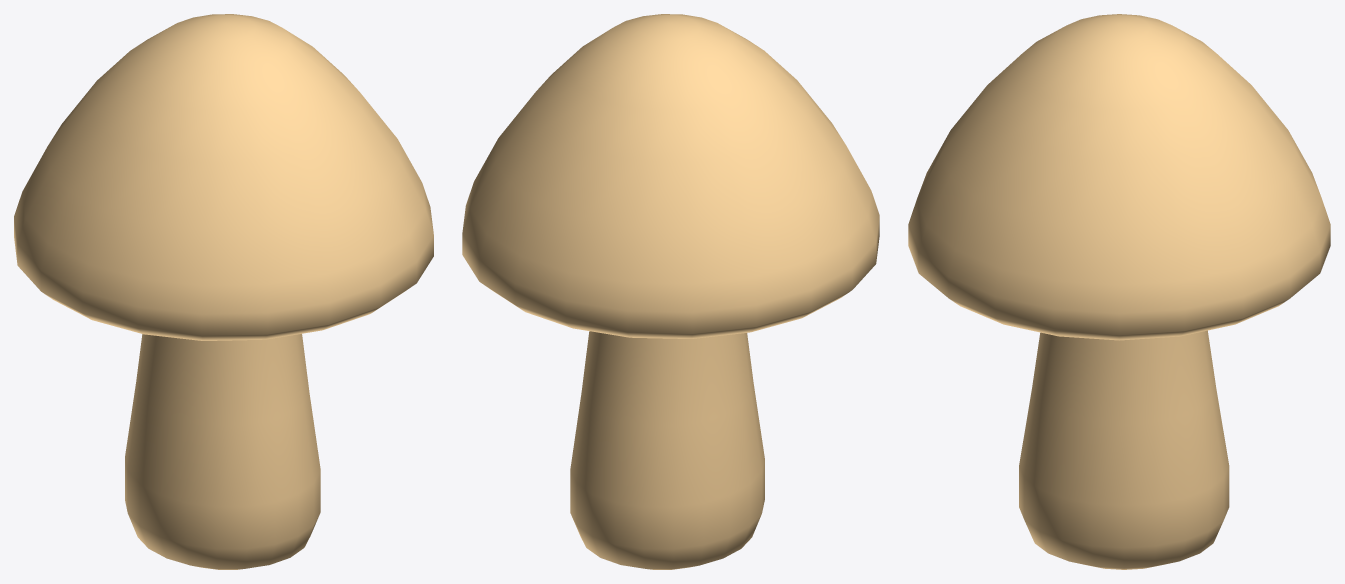
The model's file is glass_pilz_v2.glb.
3 views of the same model, side by side, from view 1: azimuth 30°, elevation 25°; view 2: azimuth 150°, elevation 25°; view 3: azimuth 270°, elevation 25° (orthographic).
Visible parts, largest first — view 1: Mushroom_Beige:BG_EP04_prop_beigemushroom_type4_head1_Mushro, Mushroom_Beige:BG_EP04_prop_beigemushroom_type4_body1_Mushro; view 2: Mushroom_Beige:BG_EP04_prop_beigemushroom_type4_head1_Mushro, Mushroom_Beige:BG_EP04_prop_beigemushroom_type4_body1_Mushro; view 3: Mushroom_Beige:BG_EP04_prop_beigemushroom_type4_head1_Mushro, Mushroom_Beige:BG_EP04_prop_beigemushroom_type4_body1_Mushro.
Boxes of the visible parts, box(x1,y1,x2,y2) form: Mushroom_Beige:BG_EP04_prop_beigemushroom_type4_head1_Mushro: box(14, 14, 433, 340); Mushroom_Beige:BG_EP04_prop_beigemushroom_type4_body1_Mushro: box(125, 334, 320, 569); Mushroom_Beige:BG_EP04_prop_beigemushroom_type4_head1_Mushro: box(462, 14, 879, 338); Mushroom_Beige:BG_EP04_prop_beigemushroom_type4_body1_Mushro: box(570, 331, 764, 569); Mushroom_Beige:BG_EP04_prop_beigemushroom_type4_head1_Mushro: box(908, 14, 1330, 340); Mushroom_Beige:BG_EP04_prop_beigemushroom_type4_body1_Mushro: box(1019, 330, 1229, 569).
Bounding box in the file's own units: 1.07 × 1.47 × 1.07.
